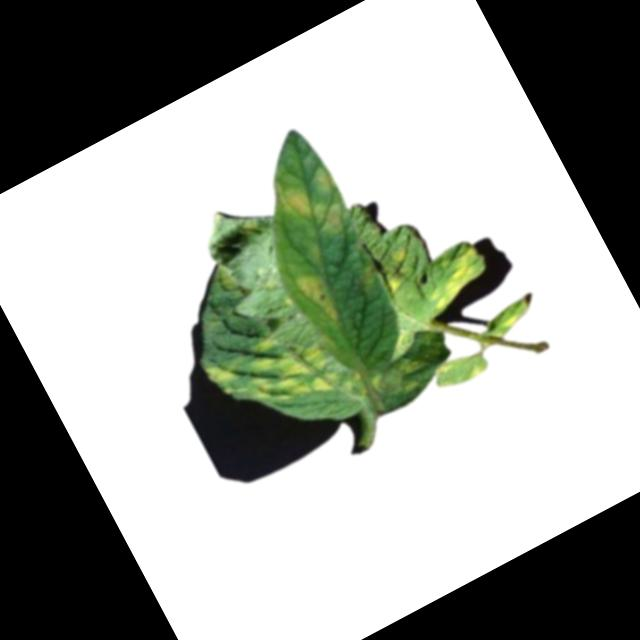Leaf_Mold: (198, 303, 366, 456), (414, 237, 493, 310), (293, 265, 339, 324), (372, 244, 419, 295), (273, 178, 318, 231), (315, 203, 348, 236)
